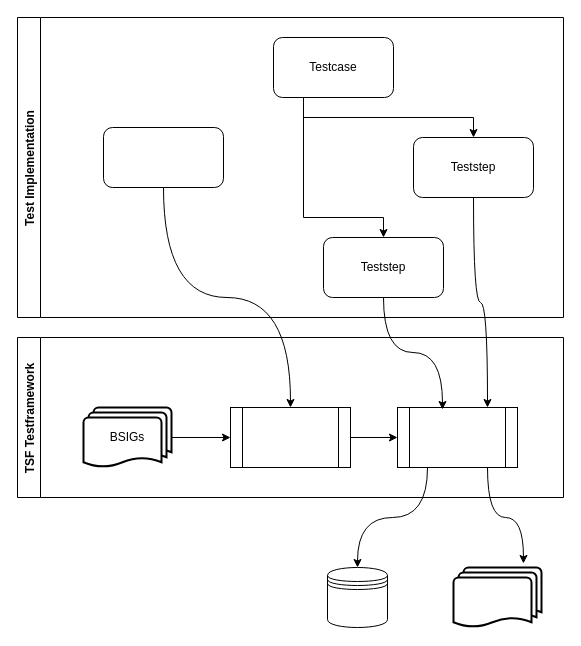
The diagram is 581 pixels wide and 646 high, and some of its shapes have lost their labels. Here are the shapes that lost their labels. From the top down, the box of each, then its label:
(102, 126, 224, 188): Signal Definiition
(230, 406, 350, 468): Read Data
(396, 406, 518, 468): Process Testcases
